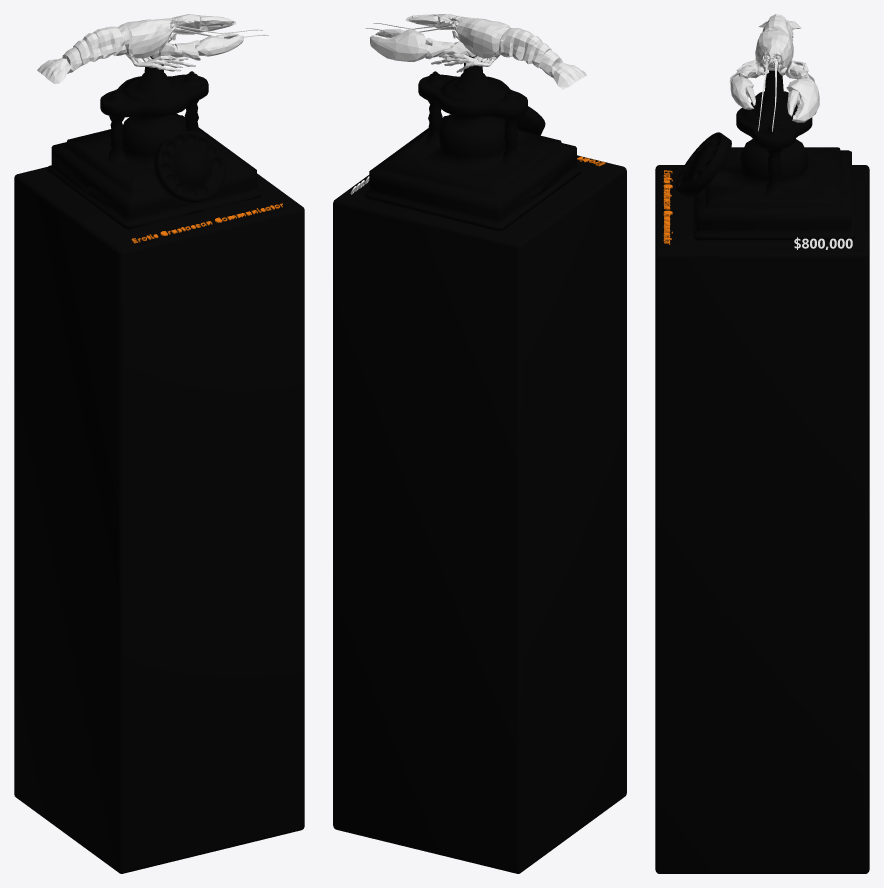
The model's file is Art2.fbx.
The picture shows the model from 3 angles, left to right: view 1: azimuth 30°, elevation 25°; view 2: azimuth 150°, elevation 25°; view 3: azimuth 270°, elevation 25°; orthographic projection.
Parts seen in each view (by area): view 1: Plinth2, Lobster_phone, Lobster_Body_low, Lobster_Claws_low; view 2: Plinth2, Lobster_phone, Lobster_Body_low, Lobster_Claws_low; view 3: Plinth2, Lobster_phone, Lobster_Claws_low, Lobster_Body_low.
Boxes of the visible parts, <box> form: Plinth2: <box>14,167,304,873</box>; Lobster_phone: <box>47,56,261,229</box>; Lobster_Body_low: <box>37,18,268,83</box>; Lobster_Claws_low: <box>151,14,243,60</box>; Plinth2: <box>333,155,626,873</box>; Lobster_phone: <box>365,55,581,230</box>; Lobster_Body_low: <box>365,15,586,89</box>; Lobster_Claws_low: <box>370,14,475,61</box>; Plinth2: <box>655,165,869,873</box>; Lobster_phone: <box>675,70,854,240</box>; Lobster_Claws_low: <box>729,61,819,122</box>; Lobster_Body_low: <box>755,14,801,131</box>.
Bounding box in the file's own units: 29.16 × 102 × 25.
4 materials, 1 textured.
